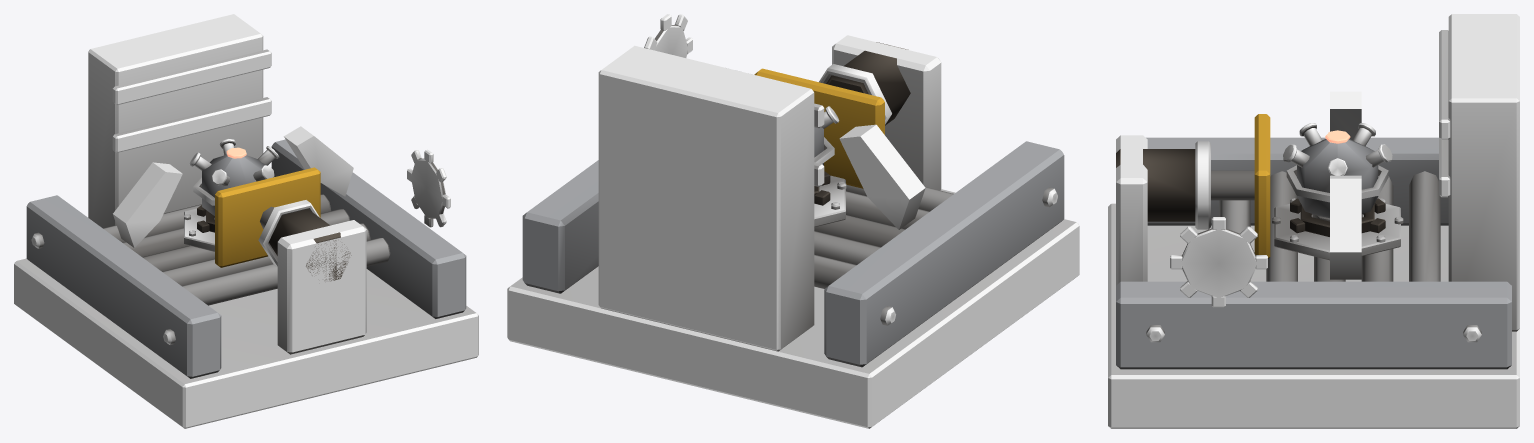
File: R4X_ExplosiveTrapDeployer_LOD1.fbx
3 views of the same model, side by side, from view 1: azimuth 30°, elevation 25°; view 2: azimuth 150°, elevation 25°; view 3: azimuth 270°, elevation 25° (orthographic). The views are drawn at different scales.
Visible parts, largest first — view 1: R4X_ExplosiveTrapDeployer_LOD1; view 2: R4X_ExplosiveTrapDeployer_LOD1; view 3: R4X_ExplosiveTrapDeployer_LOD1.
Boxes of the visible parts, box(x1,y1,x2,y2) form: R4X_ExplosiveTrapDeployer_LOD1: box(14, 14, 478, 428); R4X_ExplosiveTrapDeployer_LOD1: box(507, 14, 1079, 428); R4X_ExplosiveTrapDeployer_LOD1: box(1108, 14, 1519, 428).
Bounding box in the file's own units: 0.52 × 0.4 × 0.52.
